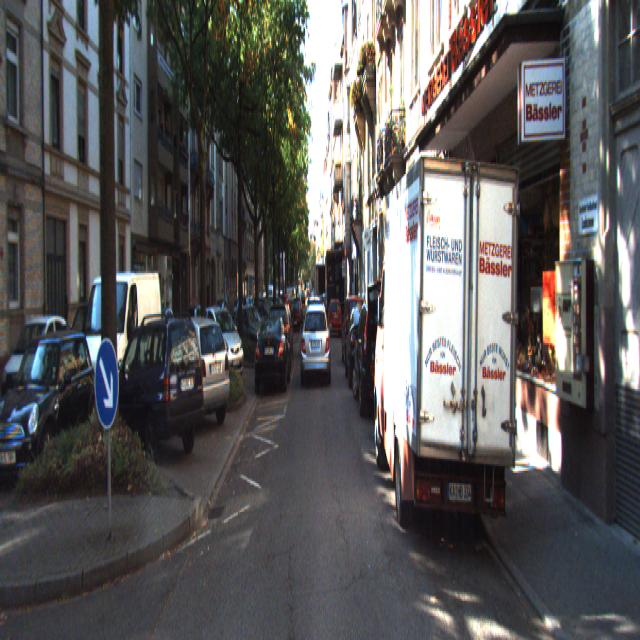Car: (104, 317, 208, 473), (0, 329, 102, 482), (152, 317, 232, 434), (0, 317, 70, 409), (352, 300, 403, 417), (196, 302, 246, 383), (344, 306, 381, 386), (253, 314, 290, 392), (301, 301, 331, 383), (232, 303, 270, 355), (341, 291, 366, 364), (304, 296, 324, 357), (327, 301, 342, 340)
Van: (372, 146, 526, 563), (72, 262, 164, 429)
